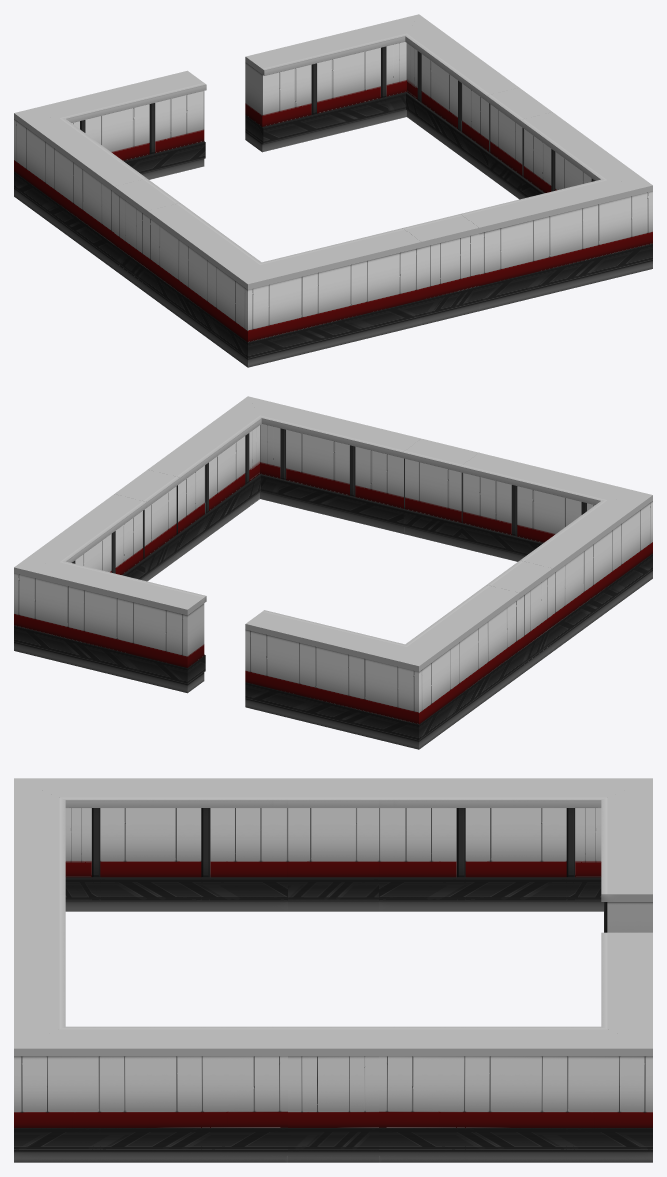
File: Room01.FBX
3 renders of one model, top to bottom at view 1: azimuth 30°, elevation 25°; view 2: azimuth 150°, elevation 25°; view 3: azimuth 270°, elevation 25°, orthographic. The views are drawn at different scales.
Visible parts, largest first — view 1: Box047, Box049, Box052, Box055, Box050, Box054, Box051, Box009, Box048, Box056, Box015; view 2: Box052, Box054, Box047, Box050, Box055, Box049, Box048, Box051, Box009, Box056, Box015; view 3: Box048, Box051, Box055, Box050, Box015, Box056, Box054, Box049, Box047, Box052, Box009.
Boxes of the visible parts, left/top/right/bottom form: Box047: left=461, top=179, right=652, bottom=311; Box049: left=248, top=228, right=421, bottom=367; Box052: left=245, top=14, right=418, bottom=152; Box055: left=14, top=113, right=146, bottom=269; Box050: left=147, top=203, right=261, bottom=367; Box054: left=15, top=70, right=206, bottom=179; Box051: left=405, top=14, right=518, bottom=177; Box009: left=403, top=214, right=479, bottom=324; Box048: left=520, top=112, right=652, bottom=198; Box056: left=114, top=178, right=179, bottom=293; Box015: left=486, top=87, right=551, bottom=199; Box052: left=14, top=561, right=206, bottom=693; Box054: left=245, top=610, right=418, bottom=749; Box047: left=248, top=396, right=420, bottom=534; Box050: left=520, top=495, right=652, bottom=651; Box055: left=405, top=585, right=519, bottom=749; Box049: left=460, top=452, right=651, bottom=561; Box048: left=148, top=396, right=261, bottom=559; Box051: left=14, top=494, right=146, bottom=580; Box009: left=402, top=438, right=478, bottom=548; Box056: left=487, top=560, right=552, bottom=675; Box015: left=115, top=469, right=180, bottom=581; Box048: left=14, top=1026, right=287, bottom=1162; Box051: left=379, top=1026, right=652, bottom=1162; Box055: left=379, top=778, right=652, bottom=911; Box050: left=14, top=778, right=287, bottom=911; Box015: left=288, top=1026, right=378, bottom=1162; Box056: left=288, top=778, right=378, bottom=911; Box054: left=601, top=778, right=652, bottom=932; Box049: left=14, top=778, right=65, bottom=894; Box047: left=14, top=932, right=65, bottom=1048; Box052: left=601, top=932, right=652, bottom=1048; Box009: left=14, top=894, right=65, bottom=932.
Size of the model in its own units: 140 by 27.57 by 140.
1 material, 1 textured.
